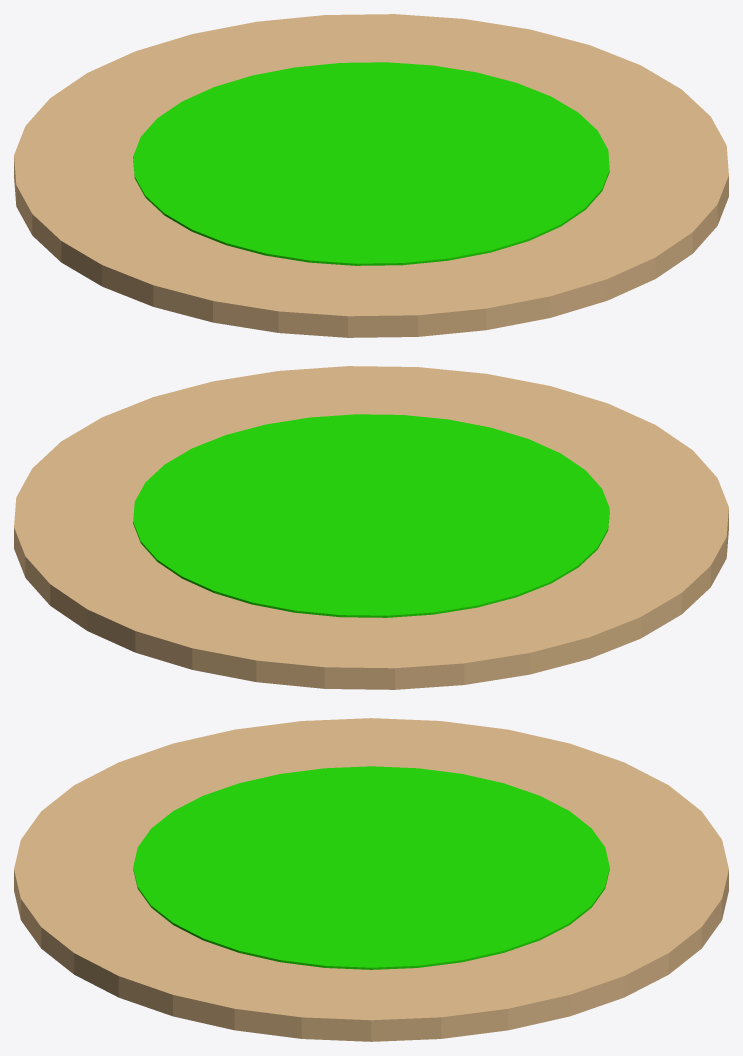
File: homemap.glb
3 renders of one model, top to bottom at view 1: azimuth 30°, elevation 25°; view 2: azimuth 150°, elevation 25°; view 3: azimuth 270°, elevation 25°, orthographic.
Parts seen in each view (by area): view 1: Cylinder.001, Cylinder; view 2: Cylinder.001, Cylinder; view 3: Cylinder.001, Cylinder.
Boxes of the visible parts, x1,y1,x2,y2 form: Cylinder.001: [14, 14, 728, 337]; Cylinder: [133, 62, 609, 265]; Cylinder.001: [14, 366, 728, 689]; Cylinder: [133, 414, 609, 617]; Cylinder.001: [14, 718, 728, 1041]; Cylinder: [133, 766, 609, 969].
Size of the model in its own units: 60 by 2.2 by 60.
